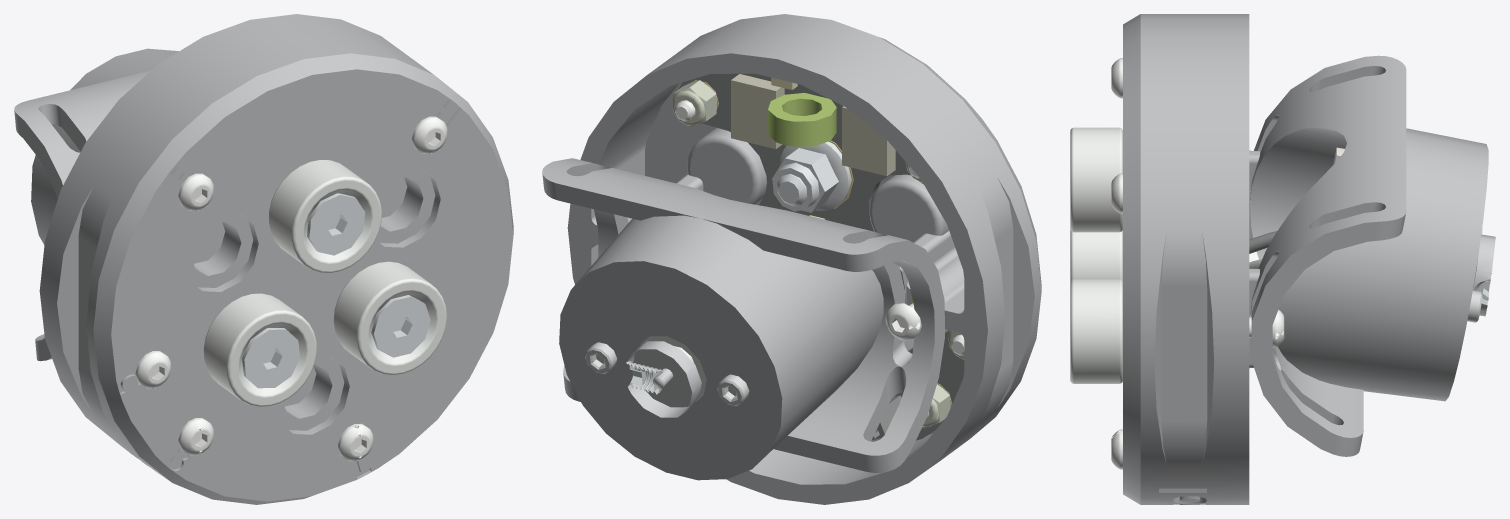
File: rotary_tool_base.glb
3 renders of one model, left to right at view 1: azimuth 30°, elevation 25°; view 2: azimuth 150°, elevation 25°; view 3: azimuth 270°, elevation 25°, orthographic.
Visible parts, largest first — view 1: mesh; view 2: mesh; view 3: mesh.
Part boxes in pixels (<box>): mesh: <box>14,14,513,504</box>; mesh: <box>542,14,1041,504</box>; mesh: <box>1070,14,1495,504</box>.
Bounding box in the file's own units: 0.07 × 0.07 × 0.0606.
Materials: 1 (1 with a texture image).
